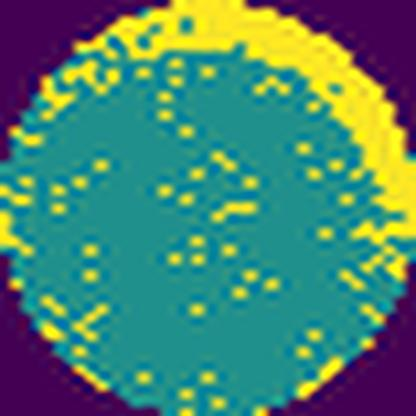Edge-Loc: (73, 0, 416, 239)
